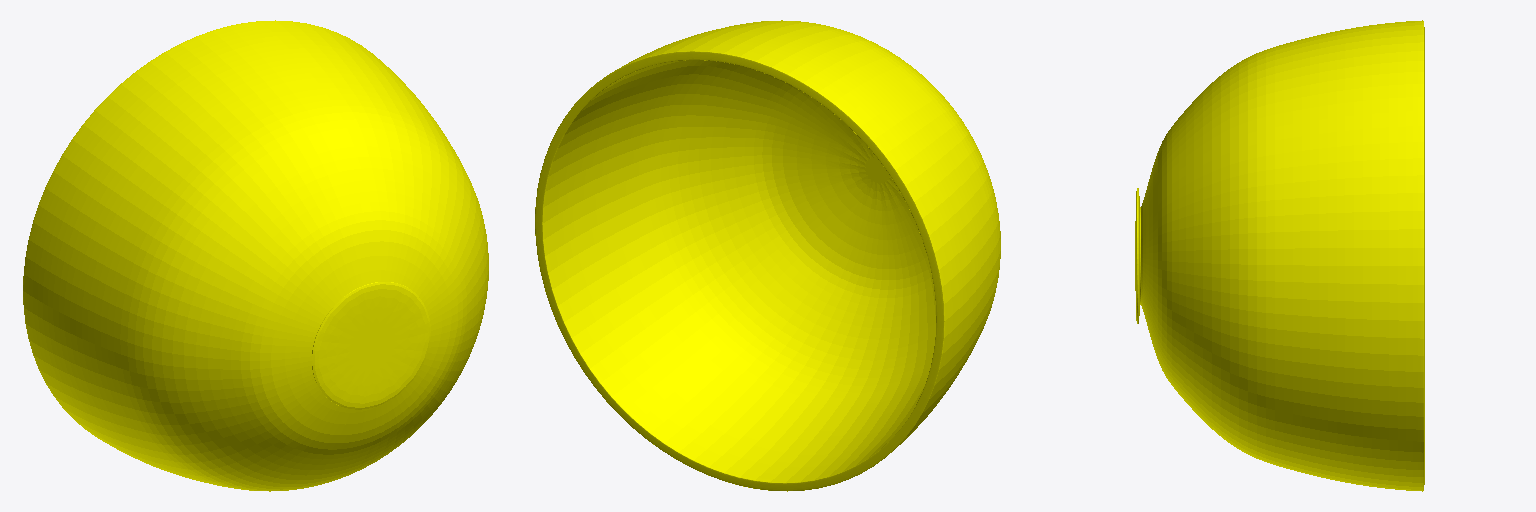
The robot description file, URDF, robot "bowl.urdf":
<?xml version="0.0"?>
<robot name="bowl.urdf">
    <link name="base_link">

        <contact>
        <lateral_friction value="1.0"/>
        </contact>

        <visual>
            <geometry>
                <mesh filename="bowl.obj" scale="1 1 1"/>
            </geometry>
            <material name="yellow">
                <color rgba="1 1 0 1"/>  <!-- RGB (1, 1, 0) = Yellow, Alpha=1 (Opaque) -->
            </material>
        </visual>

        <collision>
            <geometry>
                <mesh filename="bowl_vhacd2.obj" scale="1 1 1"/>
            </geometry>
        </collision>

        <inertial>
            <mass value="0.2"/>
            <origin xyz="0 0 0"/>
            <inertia ixx="0.01" ixy="0" ixz="0" iyy="0.01" iyz="0" izz="0.01"/>
        </inertial>
    </link>
</robot>

--- What the picture shows (computed from the rendered views, not written in the file) ---
The picture shows the robot from 3 angles, left to right: view 1: azimuth 30°, elevation 25°; view 2: azimuth 150°, elevation 25°; view 3: azimuth 270°, elevation 25°; orthographic projection.
Robot: bowl.urdf — 1 links, 0 joints (none); root link base_link; default pose: all joints at 0.
Links seen in each view (by area): view 1: base_link; view 2: base_link; view 3: base_link.
Link boxes in pixels (left/top/right/bottom): base_link: left=23, top=20, right=488, bottom=491; base_link: left=535, top=20, right=1000, bottom=491; base_link: left=1135, top=20, right=1424, bottom=491.
Size in the robot's own frame: 13.12 by 8.05 by 13.12 metres.
Meshes: 1 distinct files referenced, 1 mesh visuals loaded (1 OBJ).